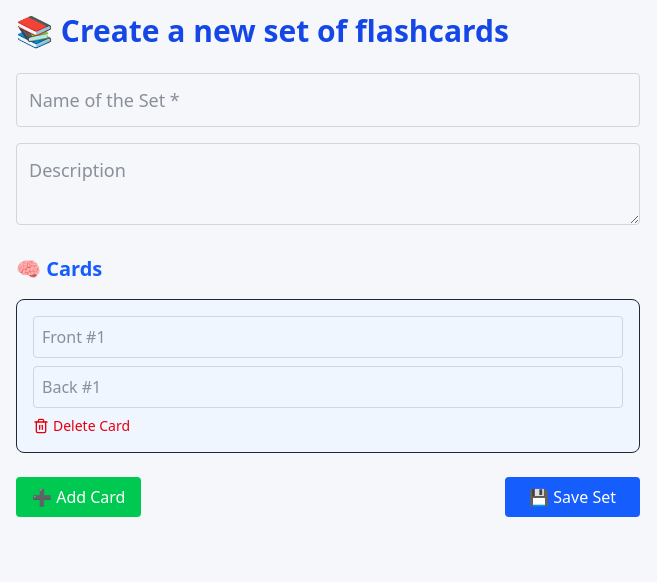
CreateFlashcardSetPage validation tests › shows error if name is empty
Click the button "💾 Save Set". click: click(573, 497)
box: left=505, top=477, right=640, bottom=517
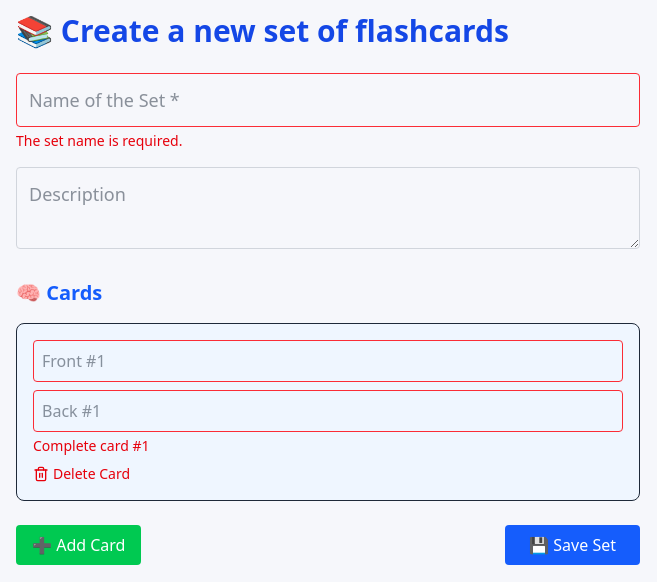
Expected: the text "The set name is required." is shown, left=16, top=131, right=182, bottom=150
